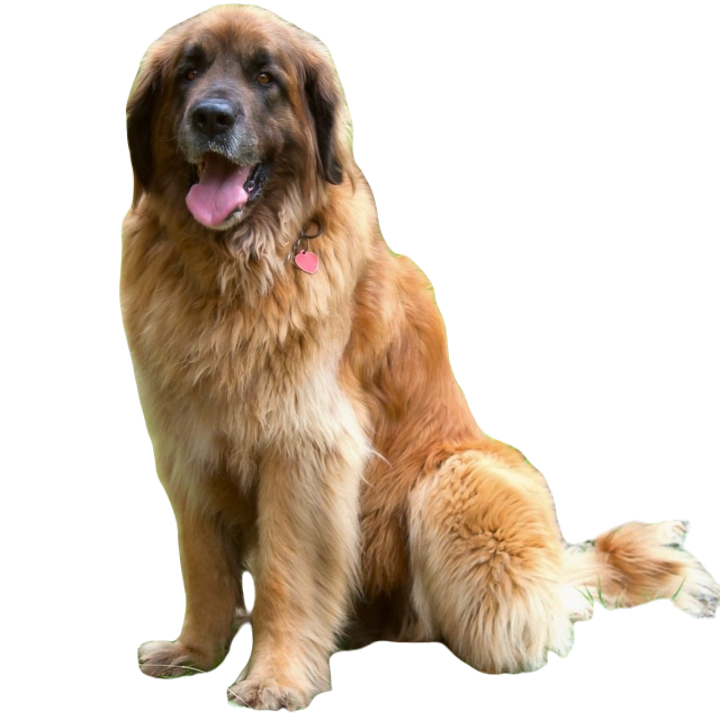Dog: (115, 3, 719, 711)
